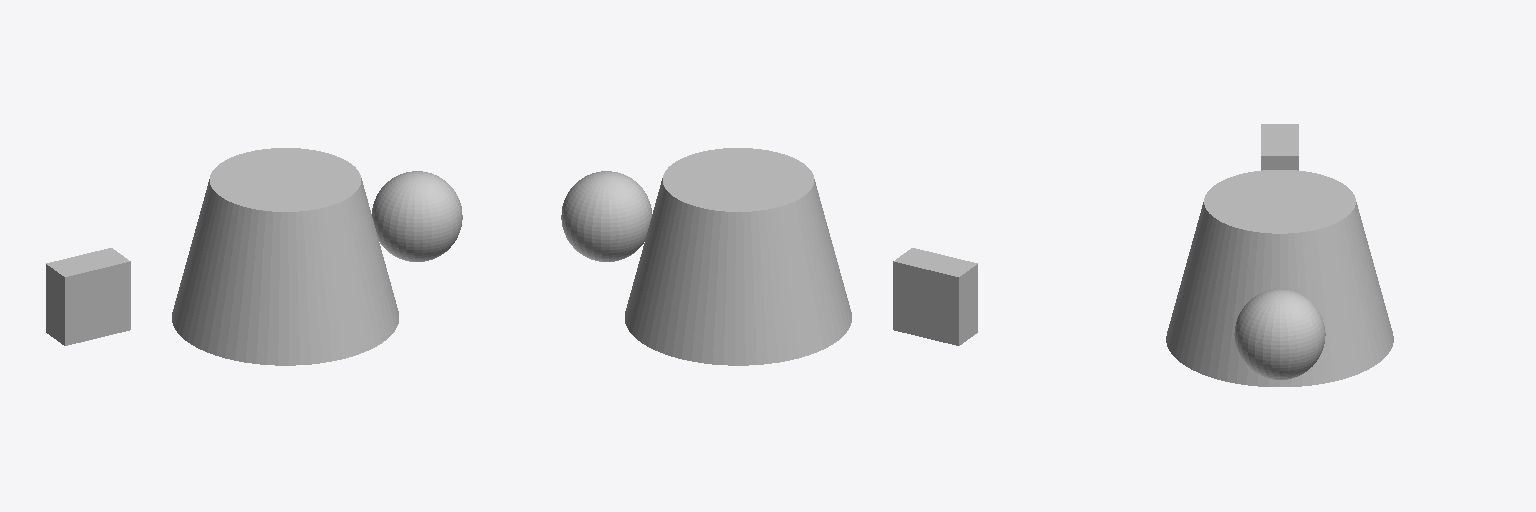
The picture shows the model from 3 angles: view 1: azimuth 30°, elevation 25°; view 2: azimuth 150°, elevation 25°; view 3: azimuth 270°, elevation 25°; orthographic projection.
Parts seen in each view (by area): view 1: cylinder1, cuboid1, sphere1; view 2: cylinder1, cuboid1, sphere1; view 3: cylinder1, sphere1, cuboid1.
Boxes of the visible parts, box(x1,y1,x2,y2) form: cylinder1: box(172, 148, 398, 365); cuboid1: box(46, 248, 130, 345); sphere1: box(372, 171, 462, 261); cylinder1: box(625, 148, 851, 365); cuboid1: box(893, 248, 977, 345); sphere1: box(561, 171, 651, 261); cylinder1: box(1166, 170, 1393, 386); sphere1: box(1234, 289, 1325, 379); cuboid1: box(1261, 124, 1298, 170).
Size of the model in its own units: 3.05 by 1 by 1.5.